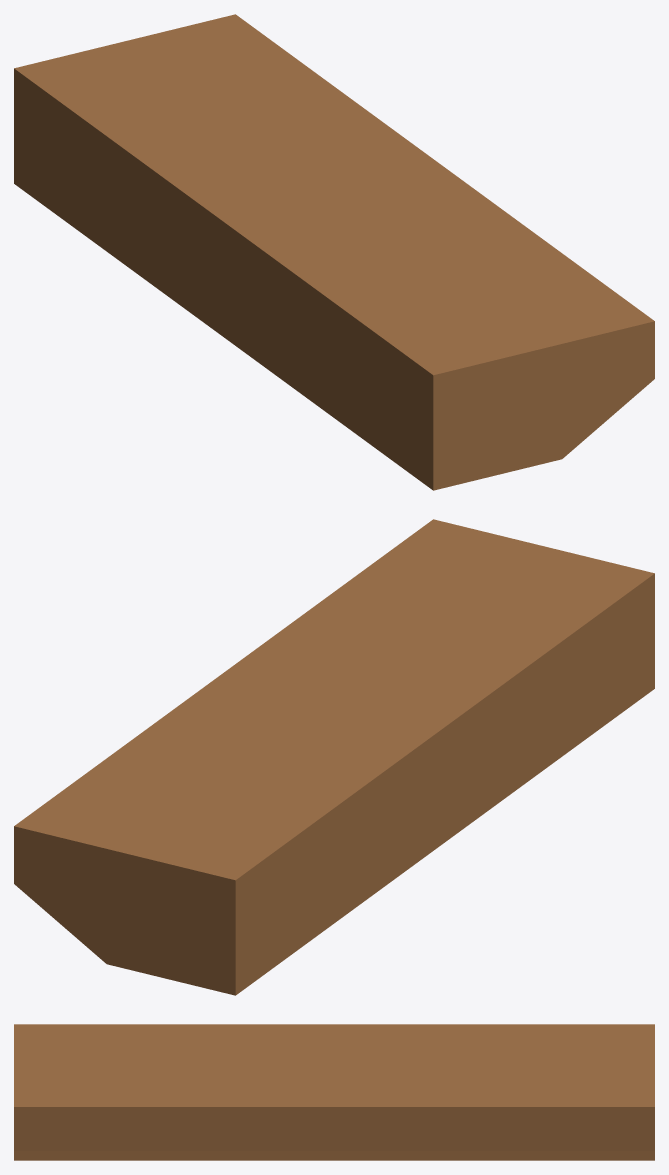
Rendered from ShelfSmall.fbx.
The picture shows the model from 3 angles, top to bottom: view 1: azimuth 30°, elevation 25°; view 2: azimuth 150°, elevation 25°; view 3: azimuth 270°, elevation 25°; orthographic projection. The views are drawn at different scales.
Visible parts, largest first — view 1: Plane.022; view 2: Plane.022; view 3: Plane.022.
Part boxes in pixels (left/top/right/bottom): Plane.022: left=14, top=14, right=654, bottom=490; Plane.022: left=14, top=519, right=654, bottom=995; Plane.022: left=14, top=1024, right=654, bottom=1160.
Size of the model in its own units: 41.31 by 20.55 by 135.
